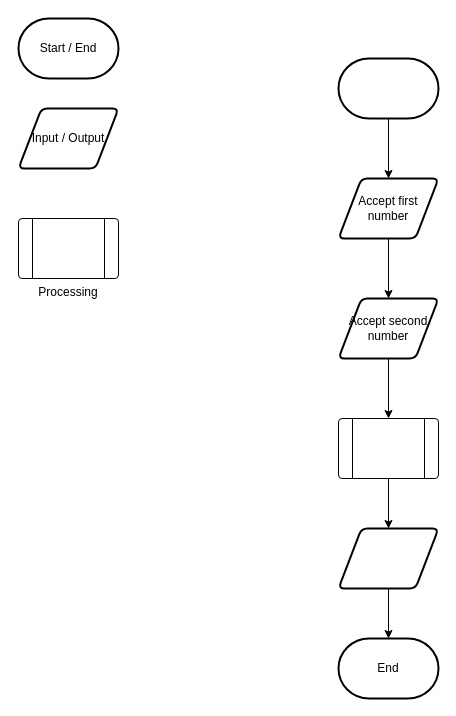
This 456x716 diagram has some shape labels left out. Here are the shapes that lost their labels. From the top down, the centre of each, then its label:
At point 388,88: "Start".
At point 388,448: "Add the two numbers together".
At point 388,558: "Print the total".
